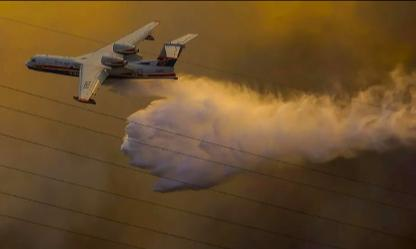B52: (25, 19, 199, 103)
